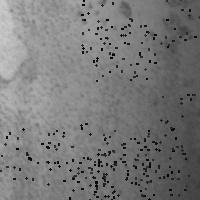pitted_surface: (76, 8, 194, 196), (1, 2, 88, 197), (46, 123, 105, 183), (95, 20, 154, 80), (90, 144, 149, 200), (133, 145, 188, 200), (123, 129, 178, 184), (81, 0, 131, 60), (97, 130, 150, 186), (0, 126, 46, 178), (69, 161, 127, 200), (159, 91, 200, 141), (160, 0, 200, 46)
